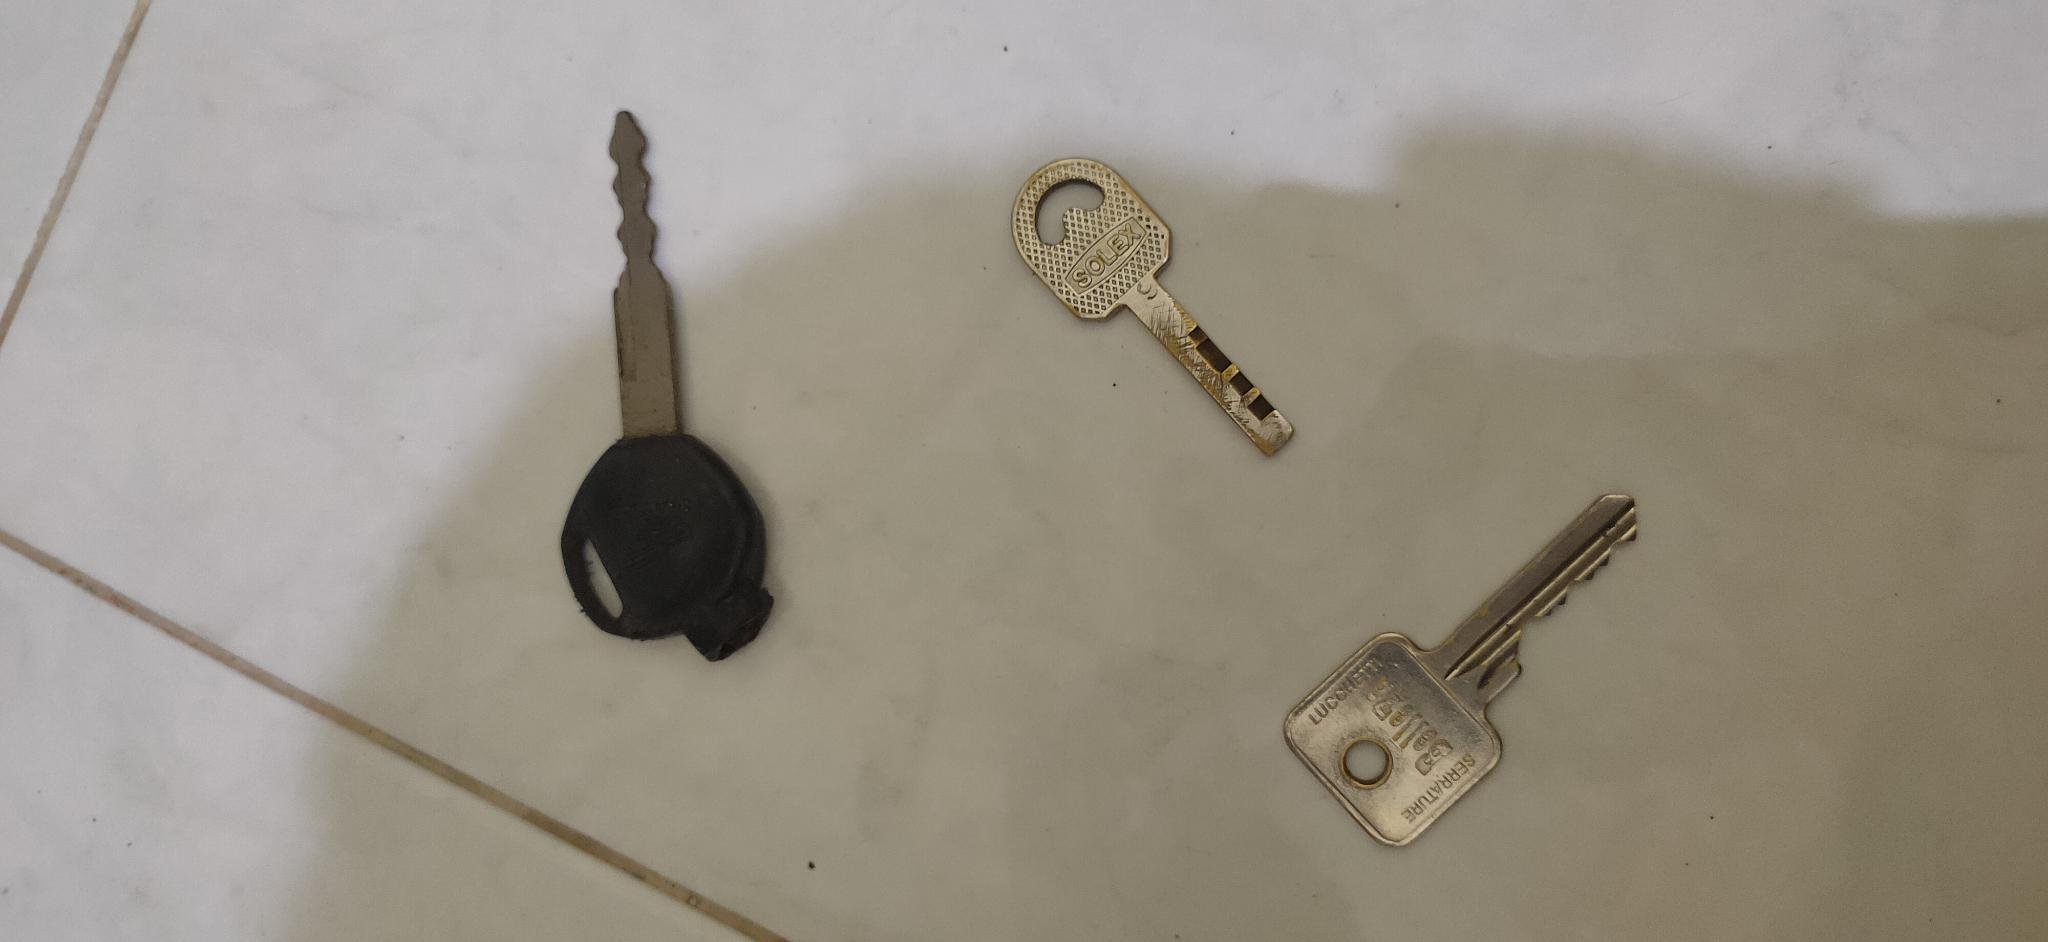keys: (541, 93, 795, 694), (1270, 482, 1667, 865), (1004, 141, 1306, 465)
